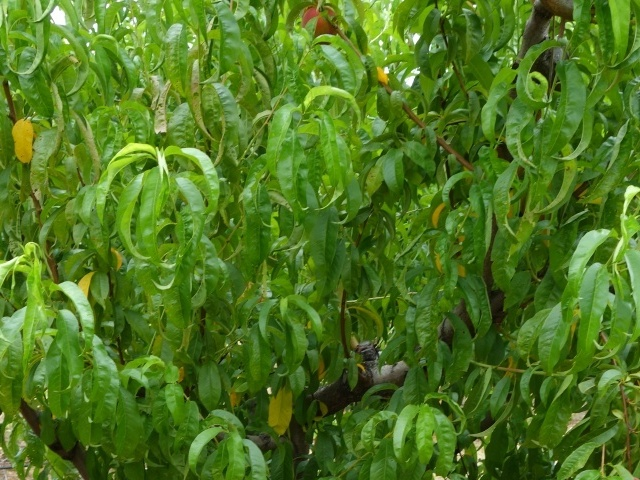peach: (297, 3, 343, 41)
